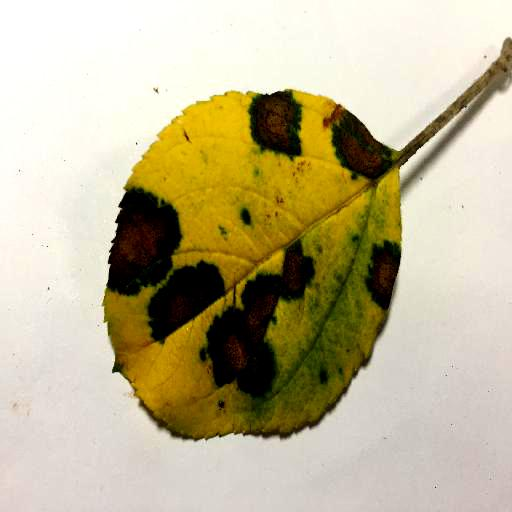Brown_Spot: (207, 241, 319, 392), (313, 110, 396, 182), (120, 187, 171, 286), (243, 93, 295, 159), (148, 268, 208, 323), (370, 238, 402, 301)
